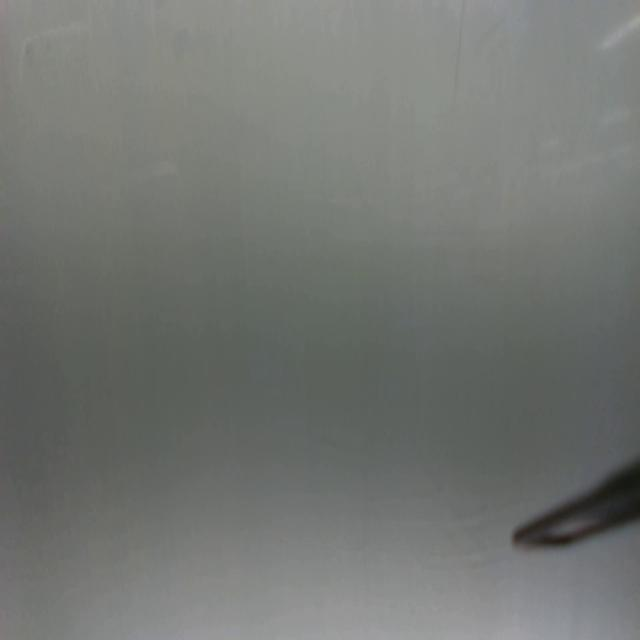crease: (451, 0, 470, 106)
